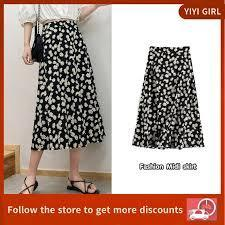skirt: (35, 21, 102, 151), (132, 43, 203, 150)
